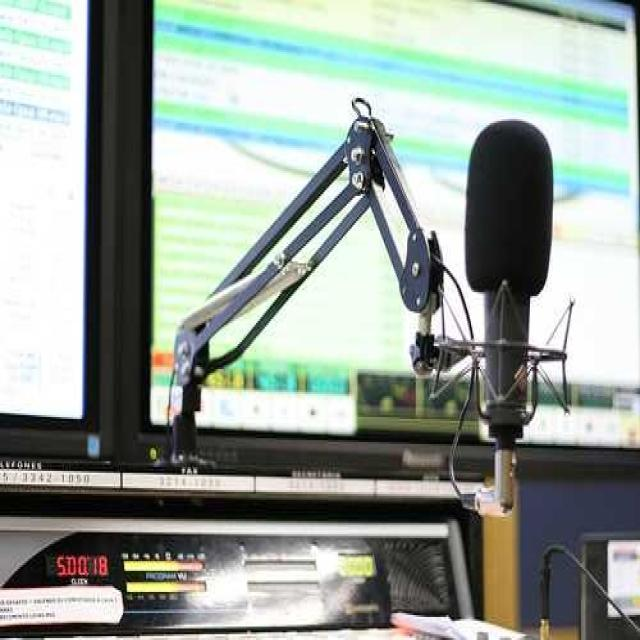microphone: (464, 120, 555, 505)
